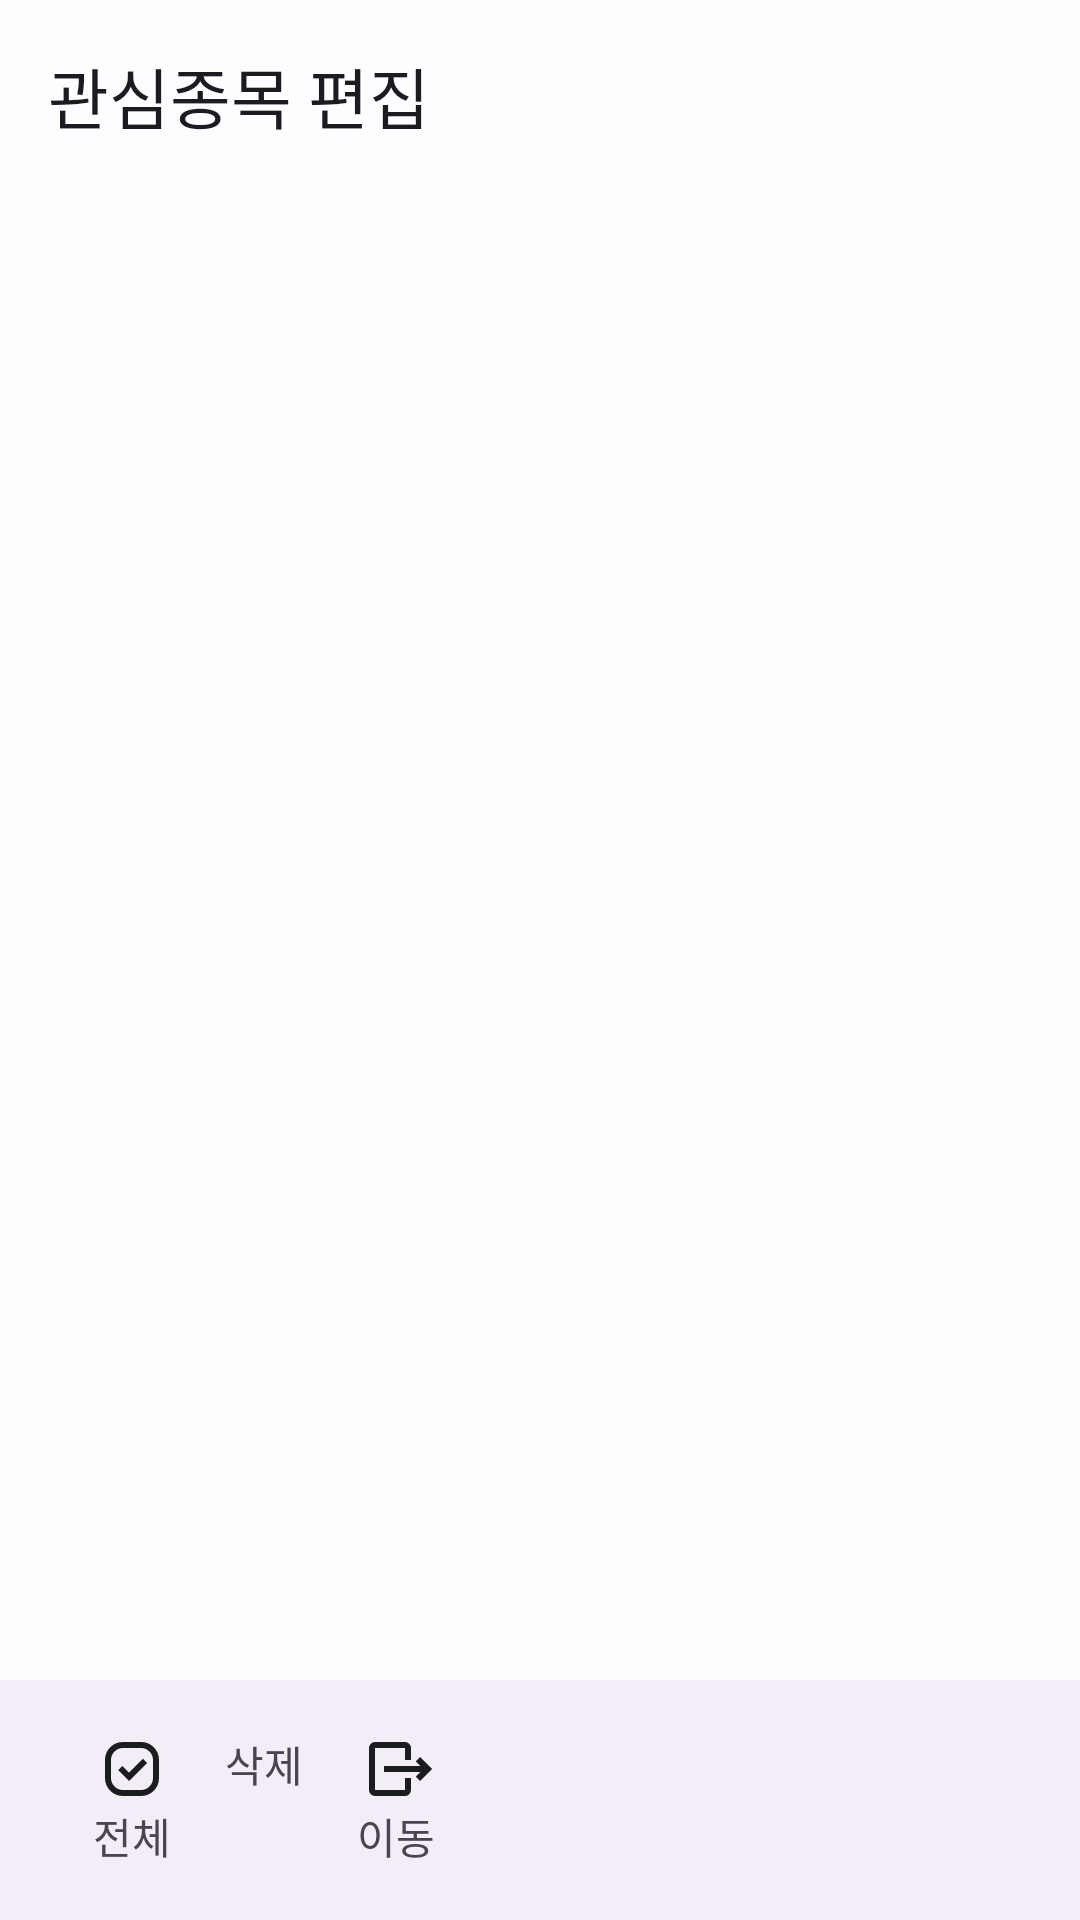

Named icons in this screenshot (1080w x 1920h) and their bounding boxes, (x1, y1, x2, y2):
checkbox: (105, 1742, 159, 1796)
